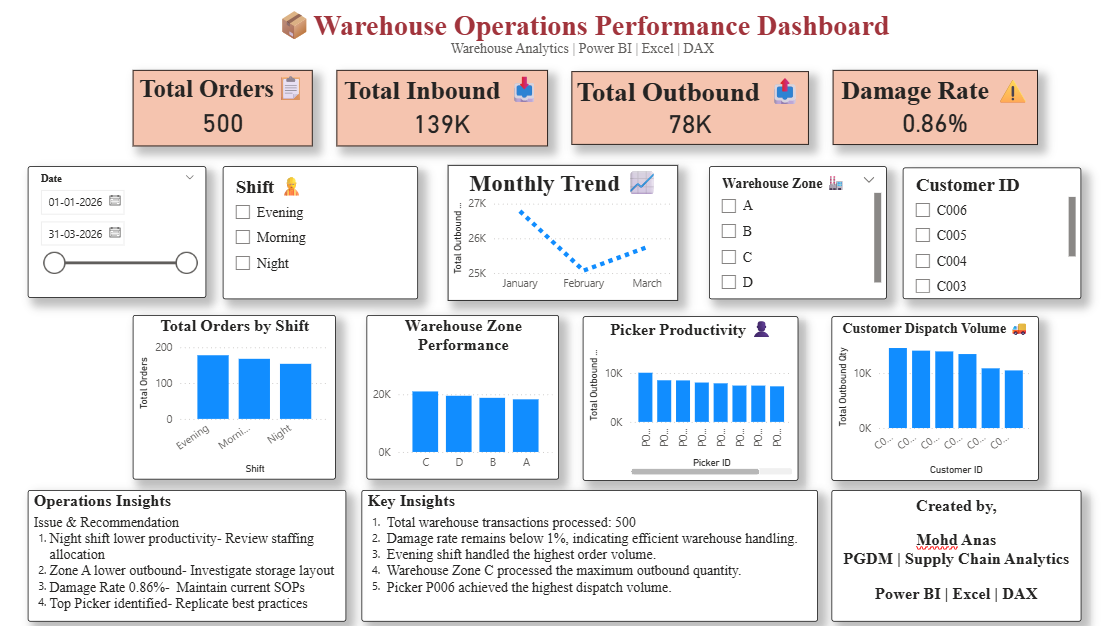

The dashboard page shown, as its layout file describes it:
{"tool":"powerbi","page":{"name":"Page 1","canvas":[1280,720],"ordinal":0},"visuals":[{"type":"card","title":"Total Orders📋","fields":{"Values":["Warehouse_Data.Total Orders"]},"box":[152.9,80,205.7,87.1],"z":0},{"type":"card","title":"Total Outbound 📤","fields":{"Values":["Warehouse_Data.Total Outbound Qty"]},"box":[654.3,81.4,271.4,84.3],"z":1000},{"type":"card","title":"Total Inbound 📥","fields":{"Values":["Warehouse_Data.Total Inbound Qty"]},"box":[385.1,79.7,241.4,87.1],"z":2000},{"type":"card","title":"Damage Rate ⚠️","fields":{"Values":["Warehouse_Data.Damage Rate"]},"box":[952.9,80,234.3,85.7],"z":3000},{"type":"clusteredColumnChart","fields":{"Category":["Warehouse_Data.Shift"],"Y":["Warehouse_Data.Total Orders"]},"box":[153.3,360,231.7,188.3],"z":4000},{"type":"clusteredColumnChart","title":"Warehouse Zone Performance","fields":{"Category":["Warehouse_Data.Warehouse Zone"],"Y":["Warehouse_Data.Total Outbound Qty"]},"box":[420,360,220,188.3],"z":5000},{"type":"clusteredColumnChart","title":"Picker Productivity 👤","fields":{"Category":["Warehouse_Data.Picker ID"],"Y":["Warehouse_Data.Total Outbound Qty"]},"box":[666.7,361.7,246.7,188.3],"z":6000},{"type":"clusteredColumnChart","title":"Customer Dispatch Volume 🚚","fields":{"Category":["Warehouse_Data.Customer ID"],"Y":["Warehouse_Data.Total Outbound Qty"]},"box":[951.7,361.7,236.7,188.3],"z":7000},{"type":"lineChart","title":"Monthly Trend 📈","fields":{"Category":["Warehouse_Data.Date.Variation.Date Hierarchy.Month"],"Y":["Warehouse_Data.Total Outbound Qty"]},"box":[513.3,188.3,263.3,155],"z":8000},{"type":"textbox","title":"📦Warehouse Operations Performance Dashboard","box":[304.6,5.4,724.6,66.9],"z":9000},{"type":"slicer","fields":{"Values":["Warehouse_Data.Shift"]},"box":[255,190,223.3,151.7],"z":10000},{"type":"slicer","fields":{"Values":["Warehouse_Data.Warehouse Zone"]},"box":[811.7,190,203.3,151.7],"z":11000},{"type":"slicer","fields":{"Values":["Warehouse_Data.Customer ID"]},"box":[1032.9,191.4,204.3,150],"z":12000},{"type":"slicer","fields":{"Values":["Warehouse_Data.Date"]},"box":[32.9,190,204.3,150],"z":13000},{"type":"textbox","title":"Key Insights","box":[414.3,560,521.4,150],"z":14000},{"type":"textbox","box":[951.4,560,285.7,150],"z":15000},{"type":"textbox","title":"Operations Insights","box":[32.9,560,364.3,150],"z":16000}]}

Visuals, with their boxes in screenshot pixels (x1, y1, x2, y2), scaled from the page's 1280x720 canvas onto the 1117x626 screenshot:
"Total Orders📋" card: (133, 70, 313, 145)
"Total Outbound 📤" card: (571, 71, 808, 144)
"Total Inbound 📥" card: (336, 69, 547, 145)
"Damage Rate ⚠️" card: (832, 70, 1036, 144)
clusteredColumnChart - Warehouse_Data.Shift x Warehouse_Data.Total Orders: (134, 313, 336, 477)
"Warehouse Zone Performance" clusteredColumnChart: (367, 313, 558, 477)
"Picker Productivity 👤" clusteredColumnChart: (582, 314, 797, 478)
"Customer Dispatch Volume 🚚" clusteredColumnChart: (831, 314, 1037, 478)
"Monthly Trend 📈" lineChart: (448, 164, 678, 298)
"📦Warehouse Operations Performance Dashboard" textbox: (266, 5, 898, 63)
slicer - Warehouse_Data.Shift: (223, 165, 417, 297)
slicer - Warehouse_Data.Warehouse Zone: (708, 165, 886, 297)
slicer - Warehouse_Data.Customer ID: (901, 166, 1080, 297)
slicer - Warehouse_Data.Date: (29, 165, 207, 296)
"Key Insights" textbox: (362, 487, 817, 617)
textbox: (830, 487, 1080, 617)
"Operations Insights" textbox: (29, 487, 347, 617)
